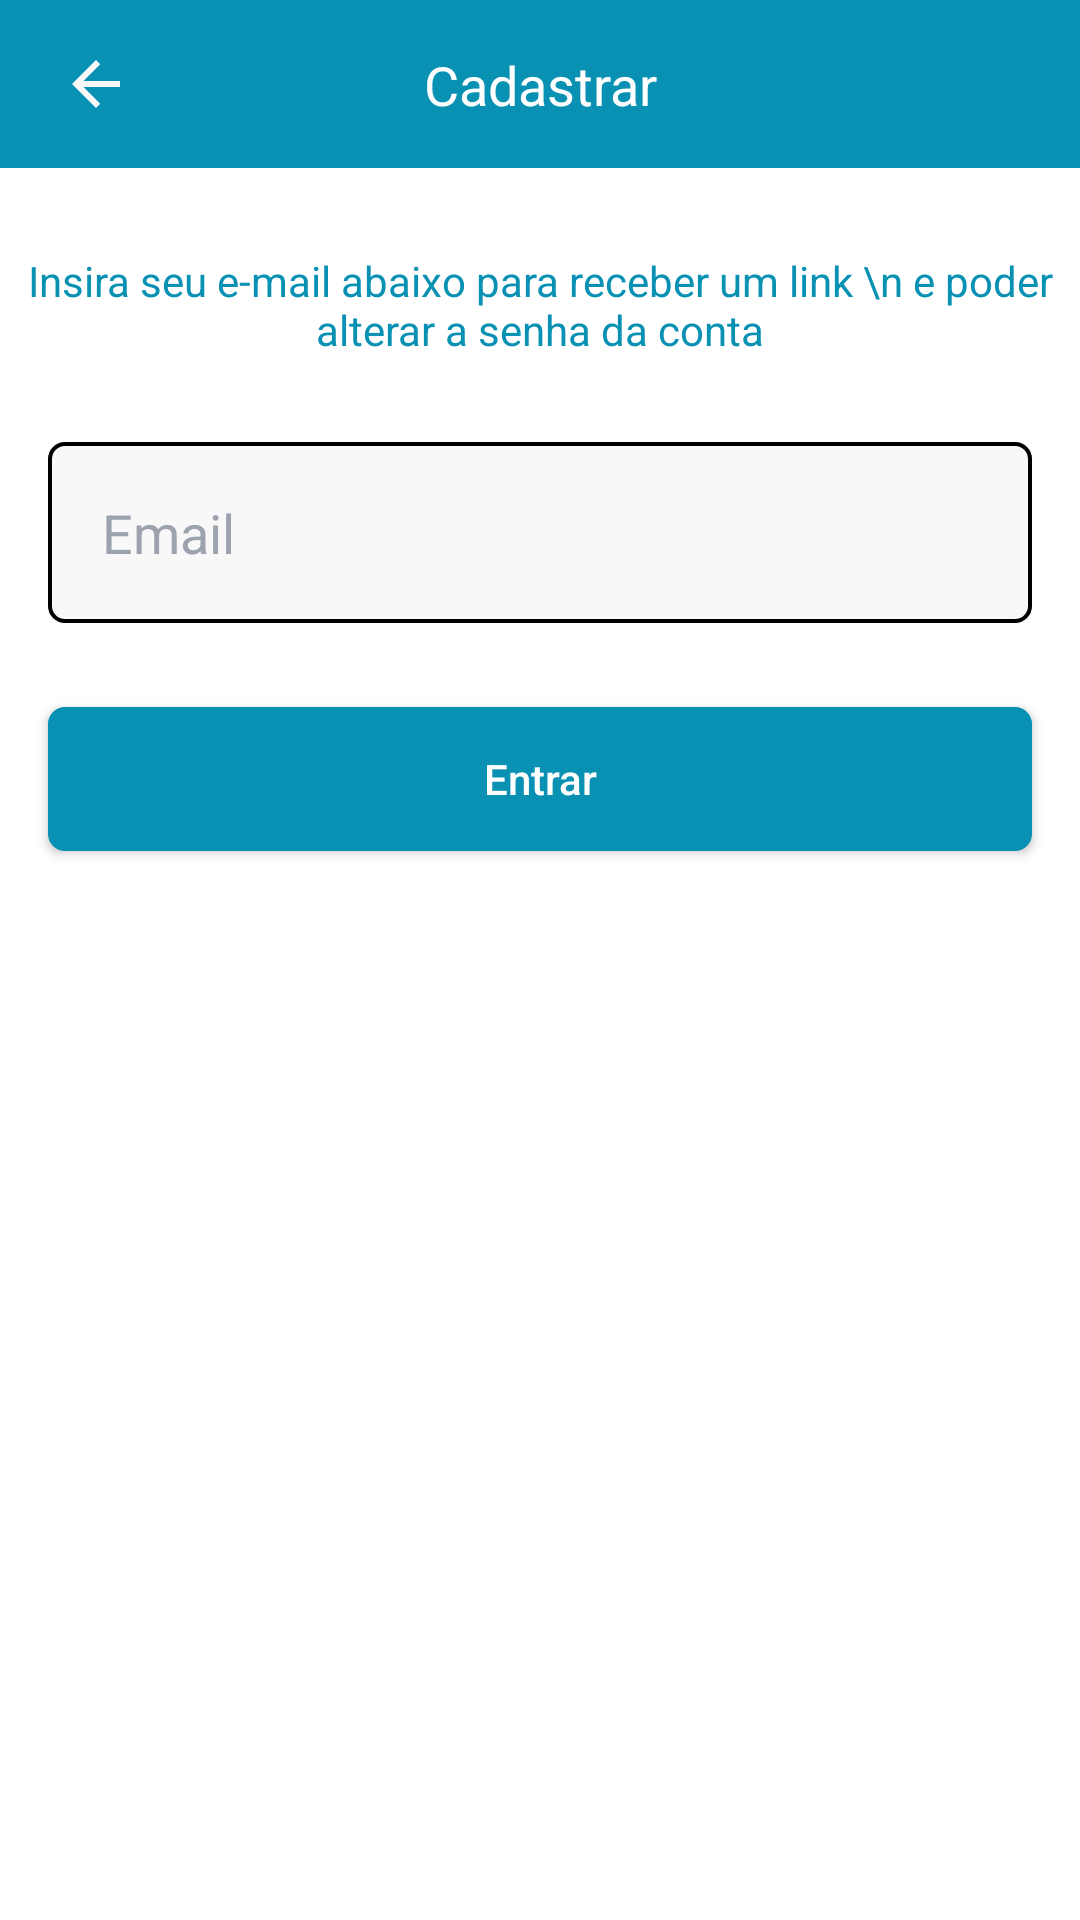

Icons on this 1080*1920 Android screen, each with its box as (x1, y1, x2, y2):
goback: (72, 60, 120, 108)
